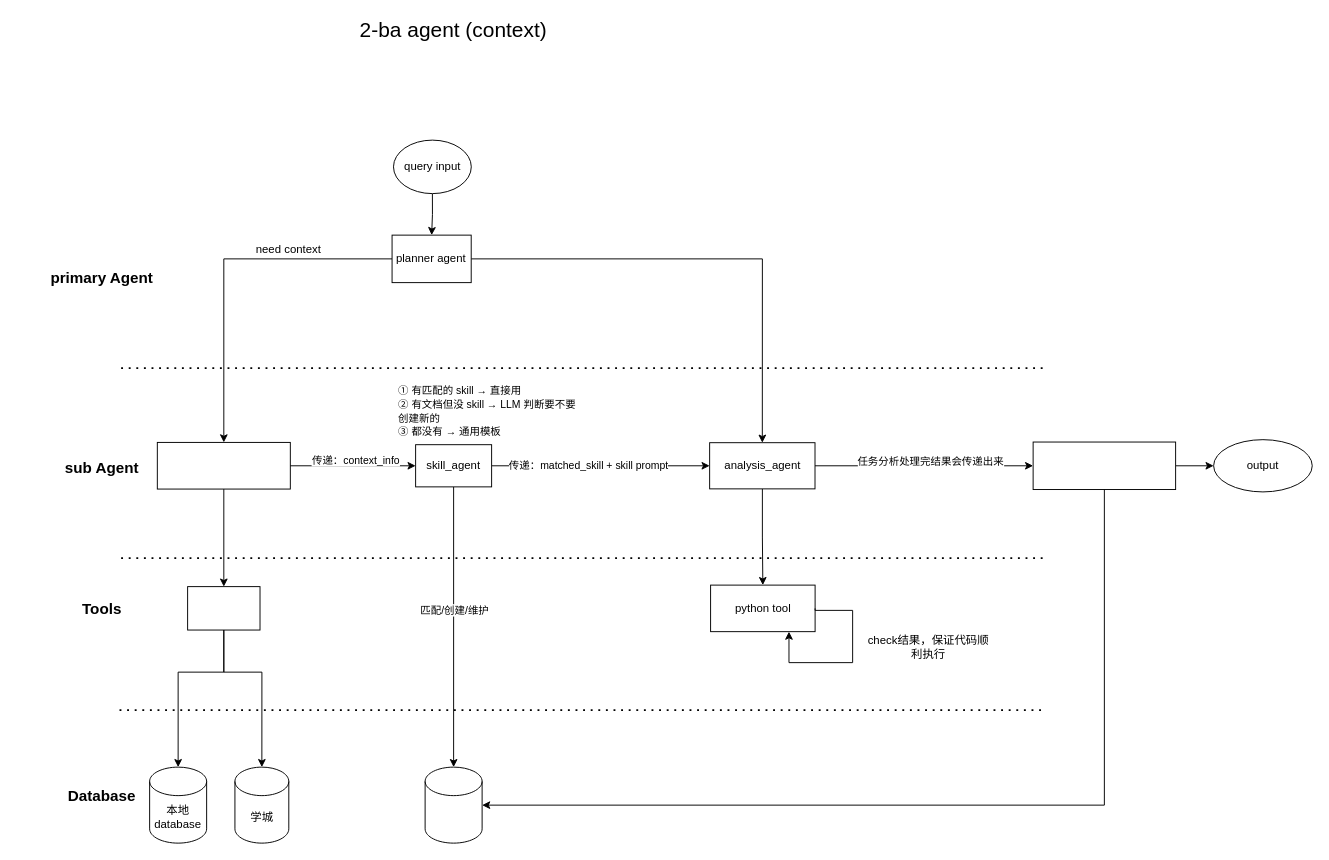
Image size: 1329x860. Some labels were removed from this diagram. Each missing label, with the centre of its shape:
"context_handle_agent" goes at pixel 223 465.
"doc_read_tool" goes at pixel 223 608.
"result_analysis_ agent" goes at pixel 1104 465.
"skills文档" goes at pixel 453 804.
